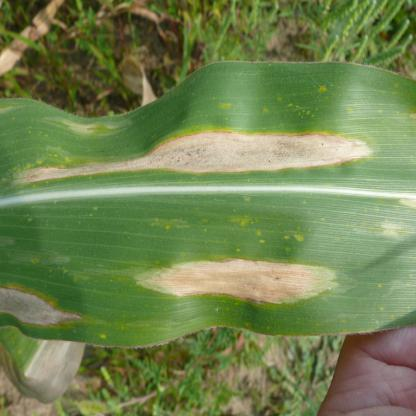corn leaf blight: (1, 90, 416, 329)
